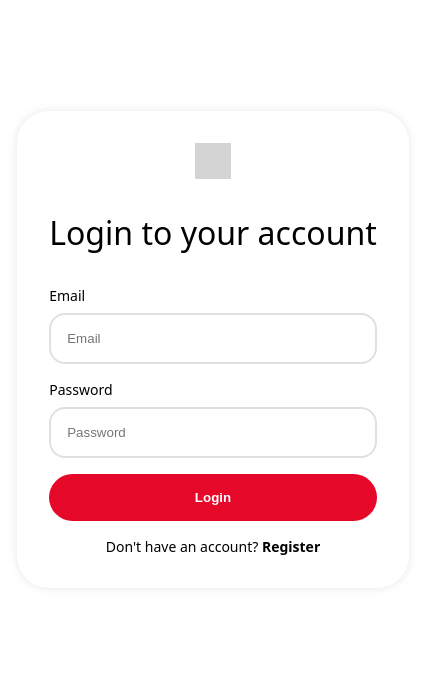
Test: AuthPage Component › switches to register form when clicking the link
The image size is (427, 700).
# Testing Library separates text in nested elements, so finding "Register" alone is safer
Click the text "Register". click: (291, 546)
box: [262, 536, 320, 556]
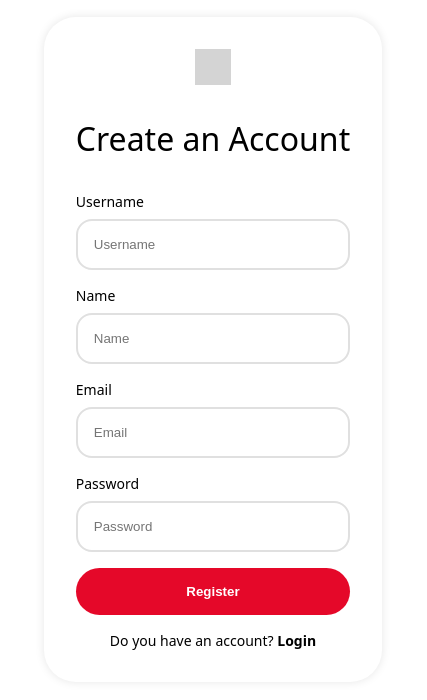
Expected: the heading "Create an Account" is shown, [76, 116, 350, 160]
Expected: the field with placeholder "Username" is shown, [76, 218, 350, 270]
Expected: the field with placeholder "Name" is shown, [76, 312, 350, 364]
